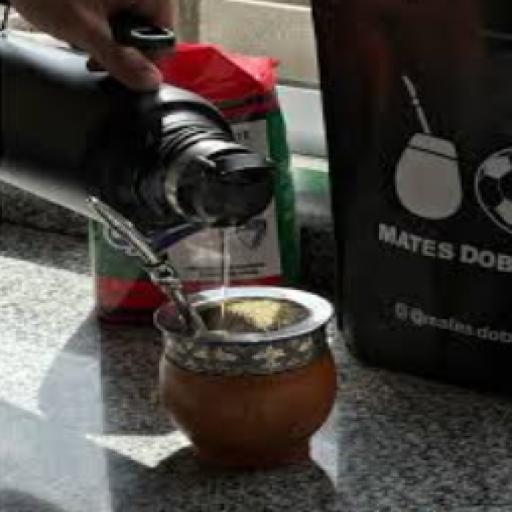mate: (159, 284, 335, 468)
termo: (0, 29, 274, 243), (107, 8, 171, 57)
